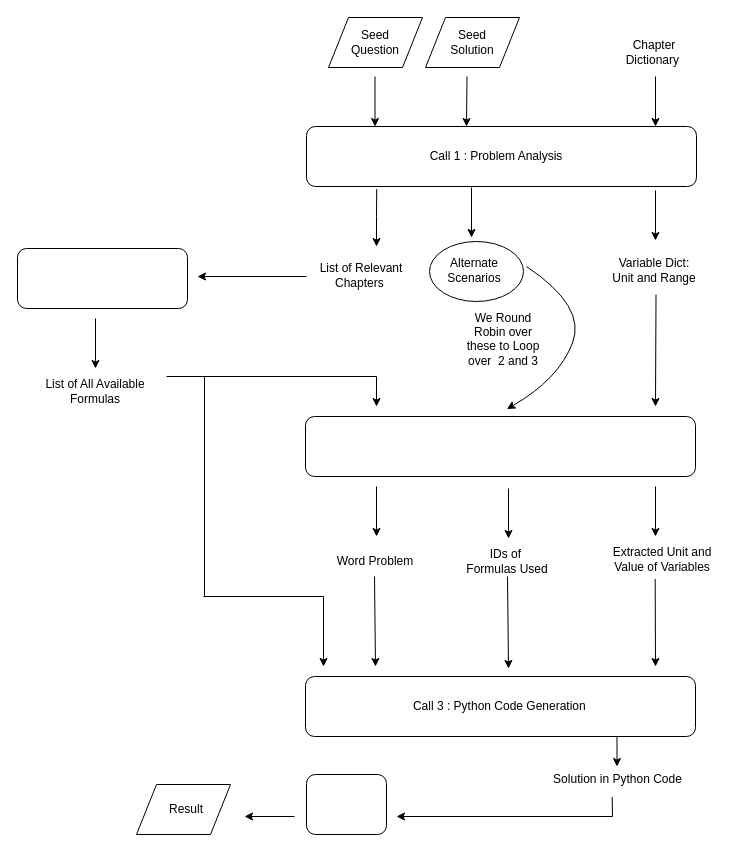
Image size: 733x852. Some labels were removed from this diagram. The centre of each missing label's shape, as x and y in pixels:
Call 2 : Problem Generation: the point at 500,446
Execute: the point at 346,804
Selecting from Chapterwise Files of All Formulas (Python Functions): the point at 102,278
